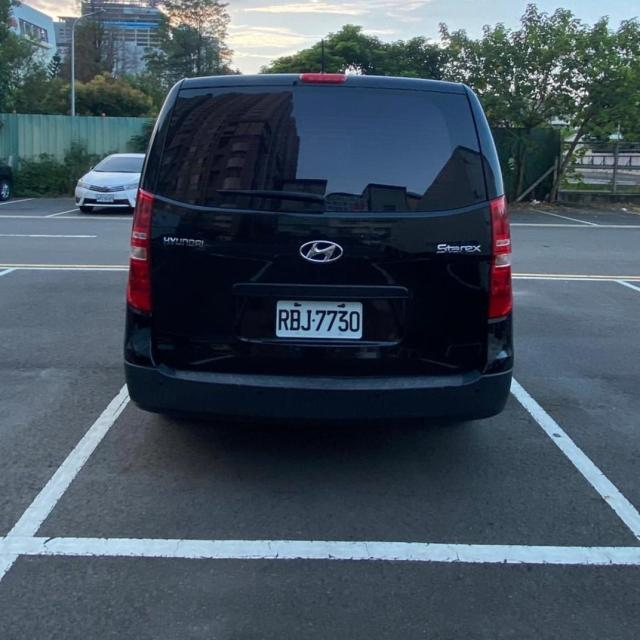W: (276, 299, 362, 340)
